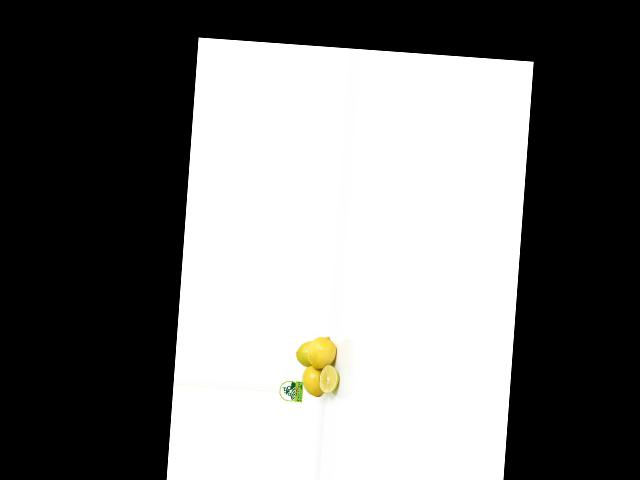lemon: (306, 332, 339, 369)
